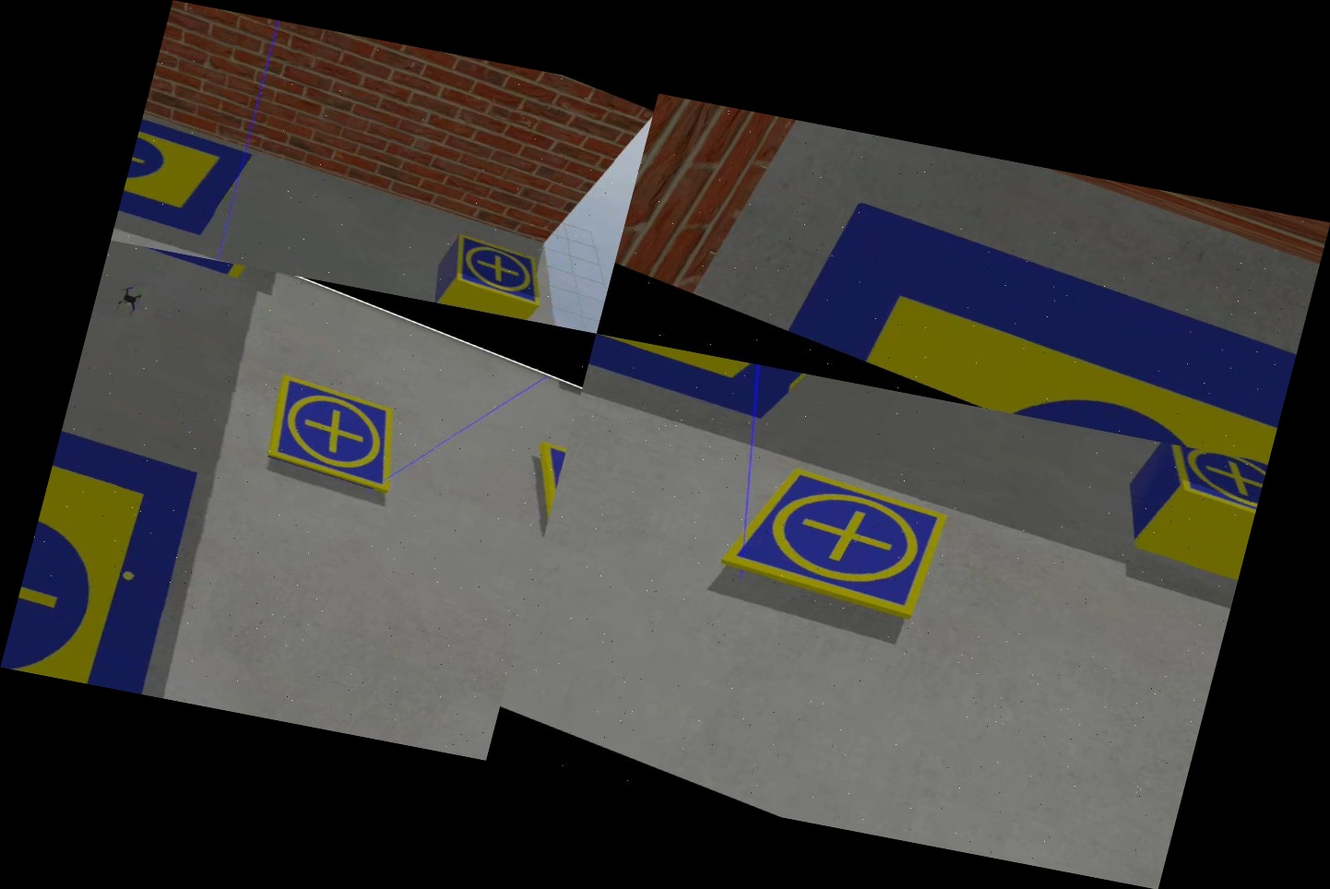large_base: (776, 172, 1318, 463), (0, 396, 305, 712), (579, 334, 841, 445), (111, 81, 265, 262)
small_base: (718, 446, 970, 639), (239, 365, 433, 507), (433, 226, 568, 314), (1136, 441, 1267, 529), (503, 432, 569, 548)
